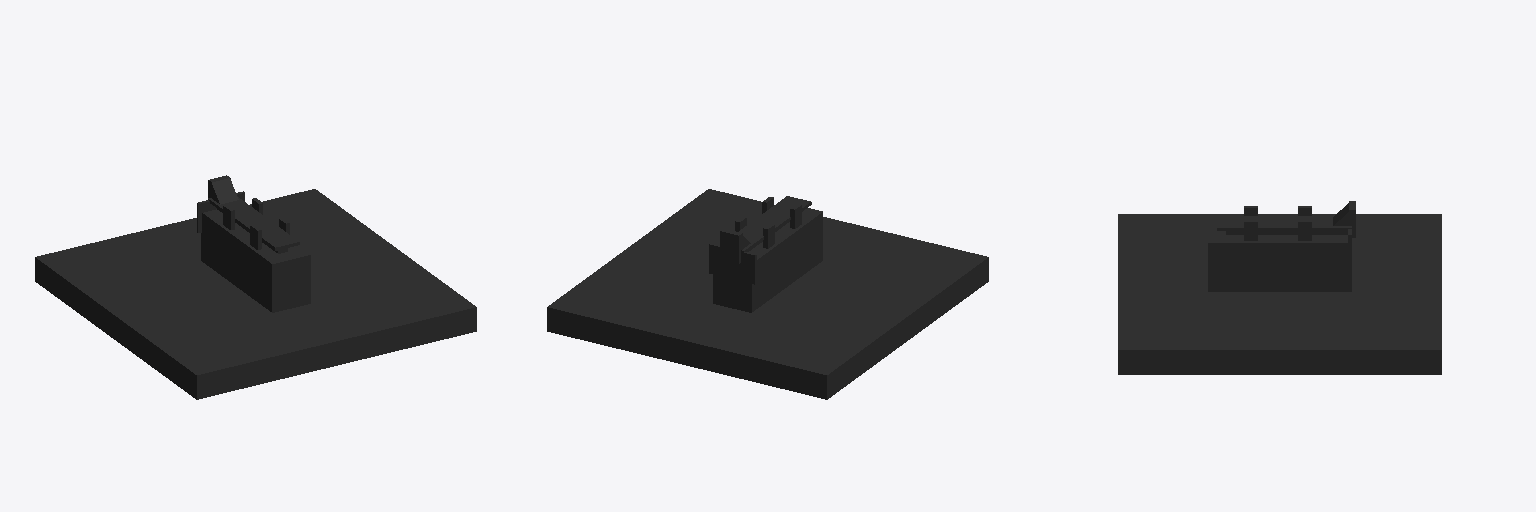
File: Pallet.obj
3 views of the same model, side by side, from view 1: azimuth 30°, elevation 25°; view 2: azimuth 150°, elevation 25°; view 3: azimuth 270°, elevation 25° (orthographic).
Parts seen in each view (by area): view 1: Pallet20, Pallet21, Pallet24, Pallet29, Pallet26, Pallet4, Pallet15; view 2: Pallet20, Pallet23, Pallet24, Pallet29, Group, Pallet6, Pallet4, Group2, Pallet15; view 3: Pallet20, Pallet22, Pallet27, Pallet4, Pallet15.
Part boxes in pixels (left/top/right/bottom): Pallet20: left=36, top=189, right=475, bottom=374; Pallet21: left=197, top=307, right=476, bottom=399; Pallet24: left=35, top=257, right=196, bottom=399; Pallet29: left=201, top=213, right=271, bottom=311; Pallet26: left=272, top=255, right=310, bottom=312; Pallet4: left=208, top=196, right=298, bottom=247; Pallet15: left=203, top=209, right=310, bottom=263; Pallet20: left=548, top=189, right=987, bottom=374; Pallet23: left=547, top=307, right=826, bottom=399; Pallet24: left=827, top=257, right=988, bottom=399; Pallet29: left=752, top=212, right=822, bottom=311; Group: left=709, top=243, right=756, bottom=284; Pallet6: left=713, top=275, right=751, bottom=312; Pallet4: left=739, top=196, right=810, bottom=250; Group2: left=720, top=229, right=742, bottom=263; Pallet15: left=749, top=208, right=822, bottom=259; Pallet20: left=1118, top=214, right=1441, bottom=349; Pallet22: left=1118, top=350, right=1441, bottom=374; Pallet27: left=1208, top=243, right=1351, bottom=291; Pallet4: left=1217, top=216, right=1351, bottom=227; Pallet15: left=1208, top=224, right=1347, bottom=242.
Bounding box in the file's own units: 180 × 62 × 180.